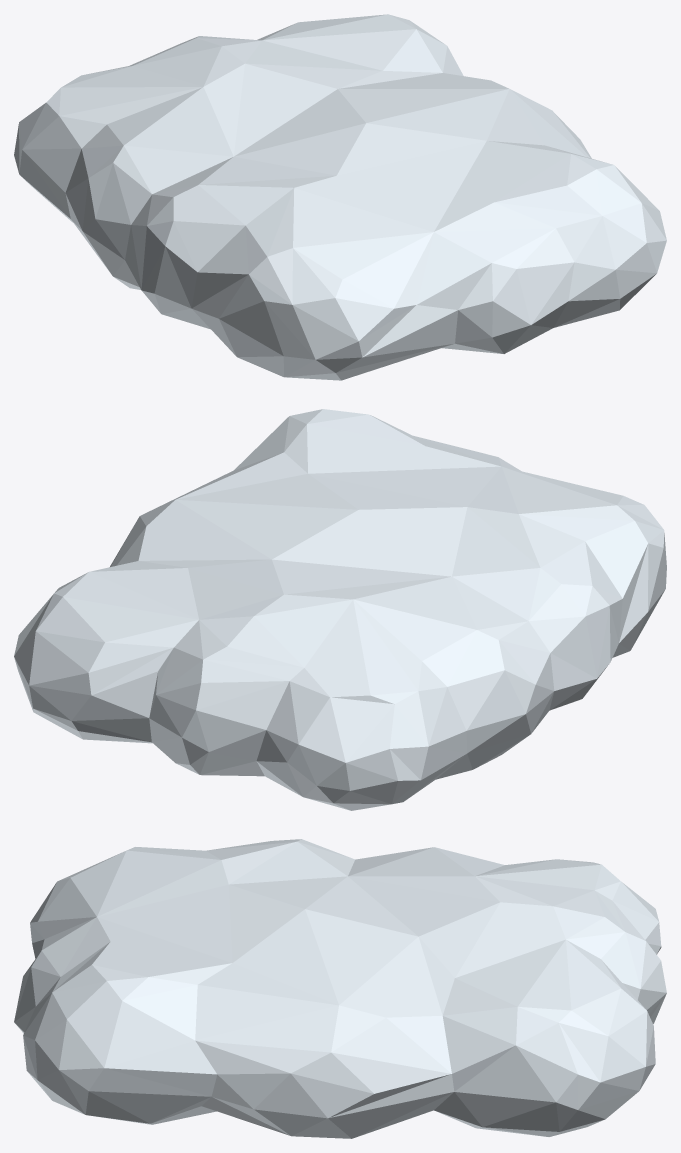
File: PROP_Ice_Cloud01.FBX
3 renders of one model, top to bottom at view 1: azimuth 30°, elevation 25°; view 2: azimuth 150°, elevation 25°; view 3: azimuth 270°, elevation 25°, orthographic. The views are drawn at different scales.
Parts seen in each view (by area): view 1: PROP_Cloud01; view 2: PROP_Cloud01; view 3: PROP_Cloud01.
Boxes of the visible parts, x1,y1,x2,y2 form: PROP_Cloud01: (14, 14, 666, 380); PROP_Cloud01: (14, 409, 666, 810); PROP_Cloud01: (14, 839, 666, 1138).
Bounding box in the file's own units: 284 × 105 × 361.
1 material, 1 textured.
